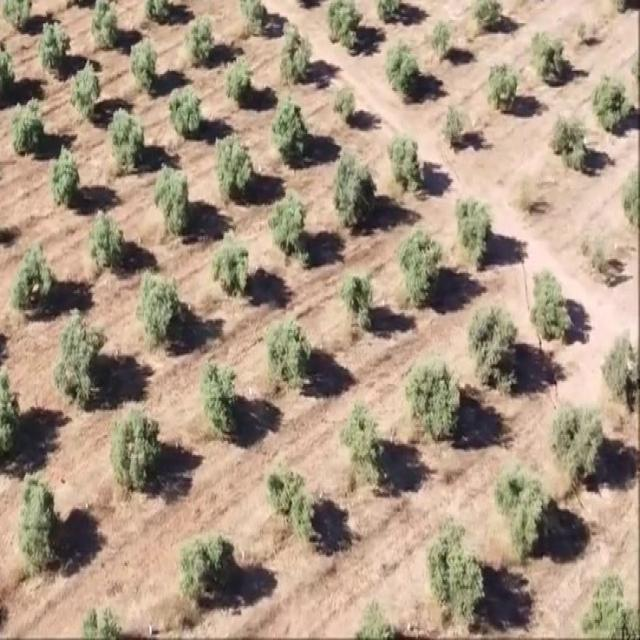trees: (416, 500, 486, 628), (486, 448, 556, 568), (105, 384, 170, 512), (544, 386, 607, 508), (246, 450, 325, 547), (7, 459, 67, 586), (400, 334, 462, 456), (170, 509, 237, 621), (263, 289, 322, 404), (49, 300, 109, 412), (465, 294, 523, 404), (126, 261, 187, 364), (324, 140, 380, 234), (394, 211, 448, 308), (337, 393, 392, 487), (206, 111, 256, 212), (5, 229, 56, 327), (522, 266, 574, 358), (207, 223, 262, 303), (266, 178, 309, 277), (451, 184, 501, 269), (148, 157, 197, 243), (600, 324, 640, 429), (332, 249, 379, 337), (196, 352, 243, 440), (590, 66, 637, 145), (268, 96, 318, 169), (10, 85, 51, 174), (385, 122, 428, 206), (546, 102, 590, 184), (107, 89, 147, 179), (120, 26, 168, 98), (85, 192, 123, 274), (47, 136, 84, 213), (382, 43, 422, 111), (528, 26, 569, 90), (276, 24, 316, 89), (69, 52, 105, 124), (177, 2, 213, 72), (36, 19, 72, 86), (169, 81, 206, 146), (479, 54, 519, 114), (329, 72, 366, 134), (88, 0, 124, 62), (323, 0, 362, 57), (462, 0, 504, 47), (440, 96, 474, 152), (420, 17, 455, 68), (231, 0, 272, 42), (223, 58, 256, 110)
